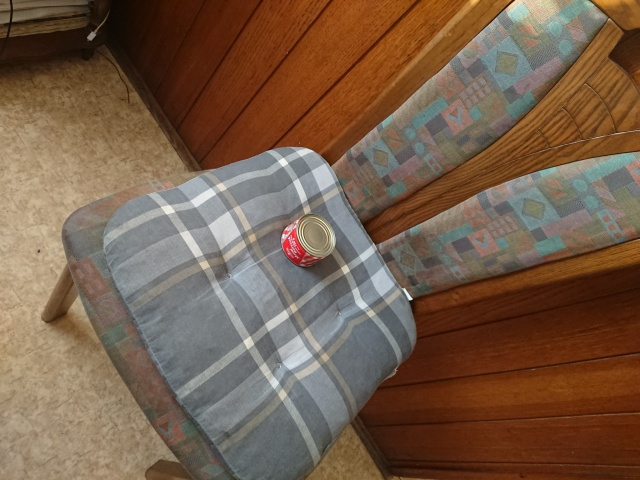Podravka Luncheon Meat 150g: (279, 212, 338, 270)
